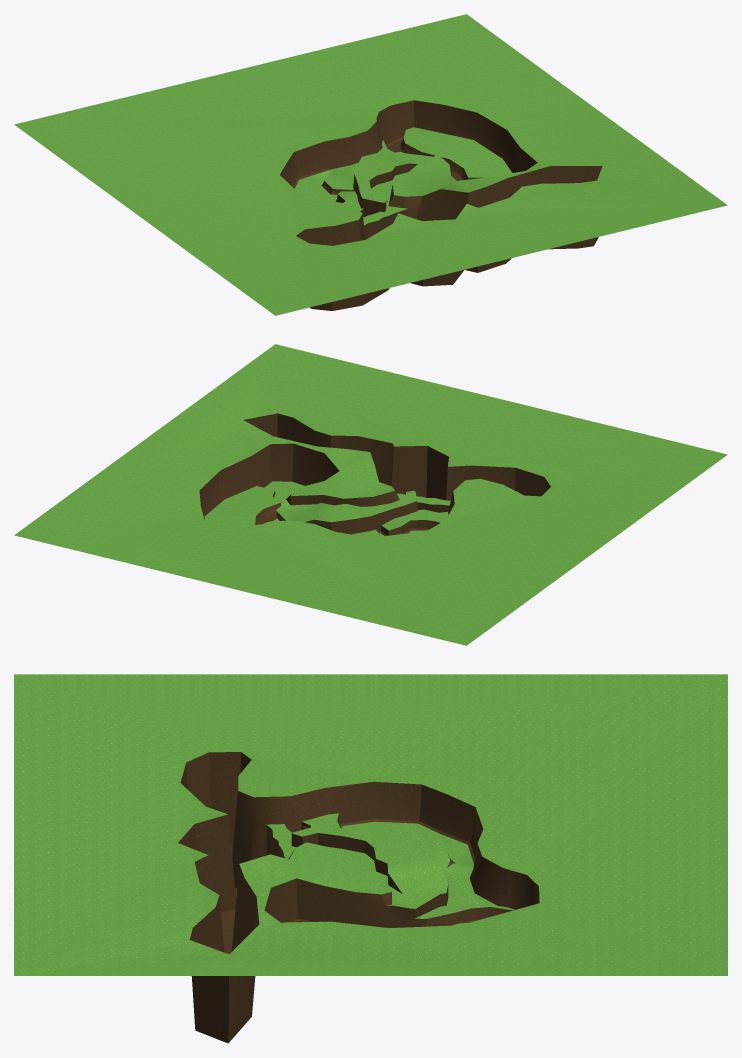
The model's file is CastleHill Terrain.fbx.
3 views of the same model, one above another, from view 1: azimuth 30°, elevation 25°; view 2: azimuth 150°, elevation 25°; view 3: azimuth 270°, elevation 25° (orthographic). The views are drawn at different scales.
Parts seen in each view (by area): view 1: Group 1; view 2: Group 1; view 3: Group 1.
Boxes of the visible parts, <box> form: Group 1: <box>14,14,727,315</box>; Group 1: <box>14,344,727,645</box>; Group 1: <box>14,674,727,1043</box>.
Bounding box in the file's own units: 50000 × 7853 × 50000.
